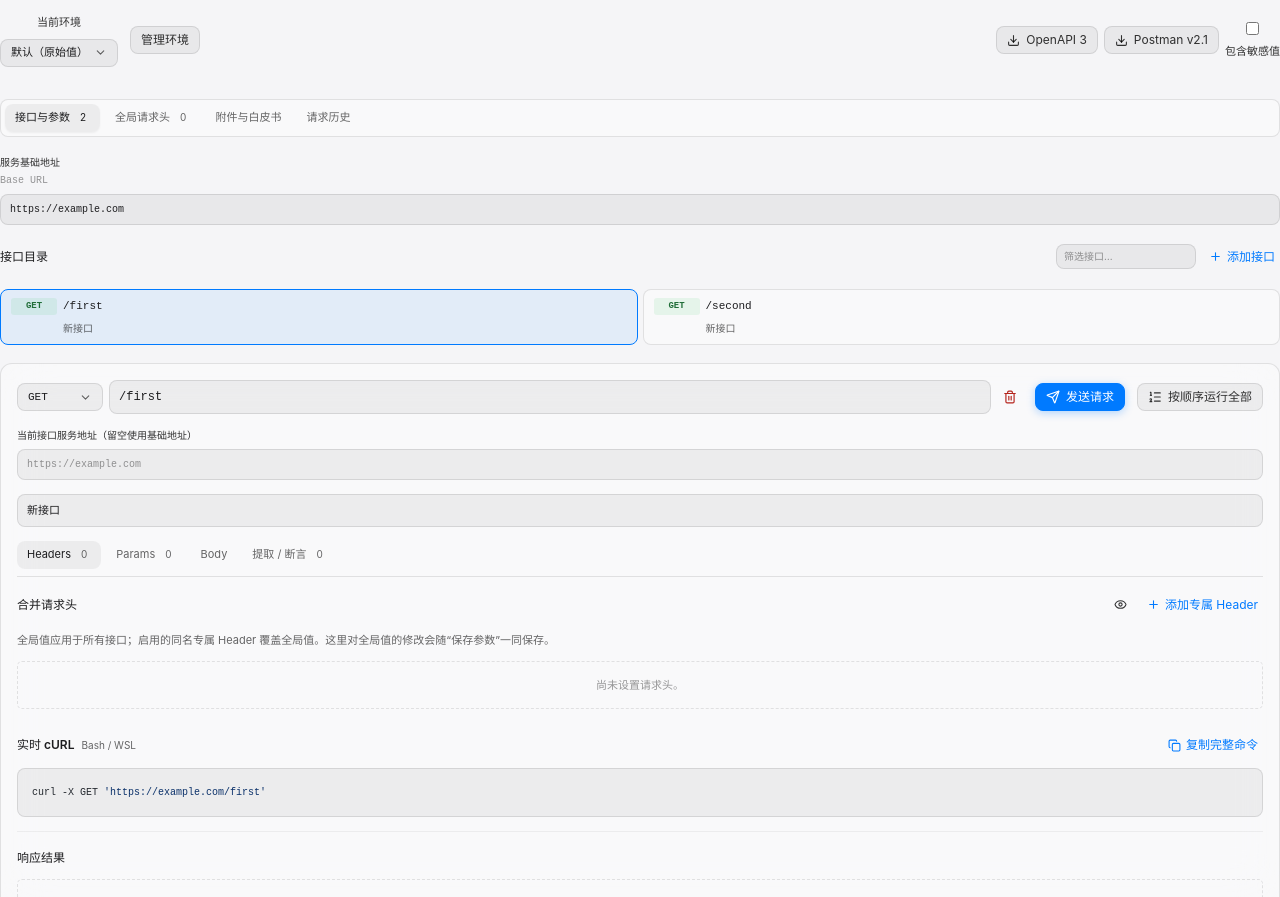
Test: responses from a previously selected endpoint never appear under another endpoint
Step 1. Click the button "发送请求" → [1080, 397], box [1035,383,1125,411]
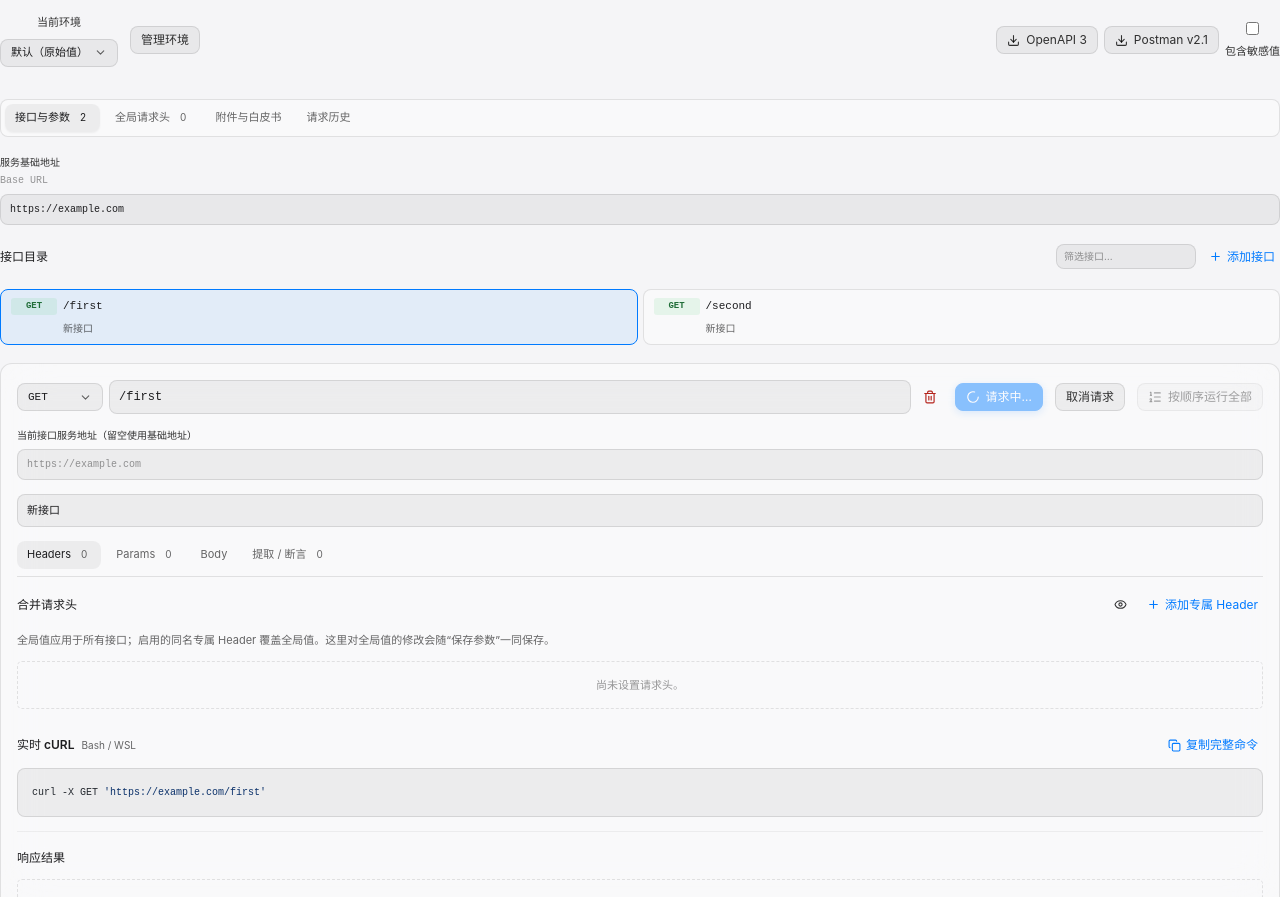
Step 2. Click the button with class "endpoint" showing "GET /second 新接口" → [676, 306], box [642,288,1279,345]
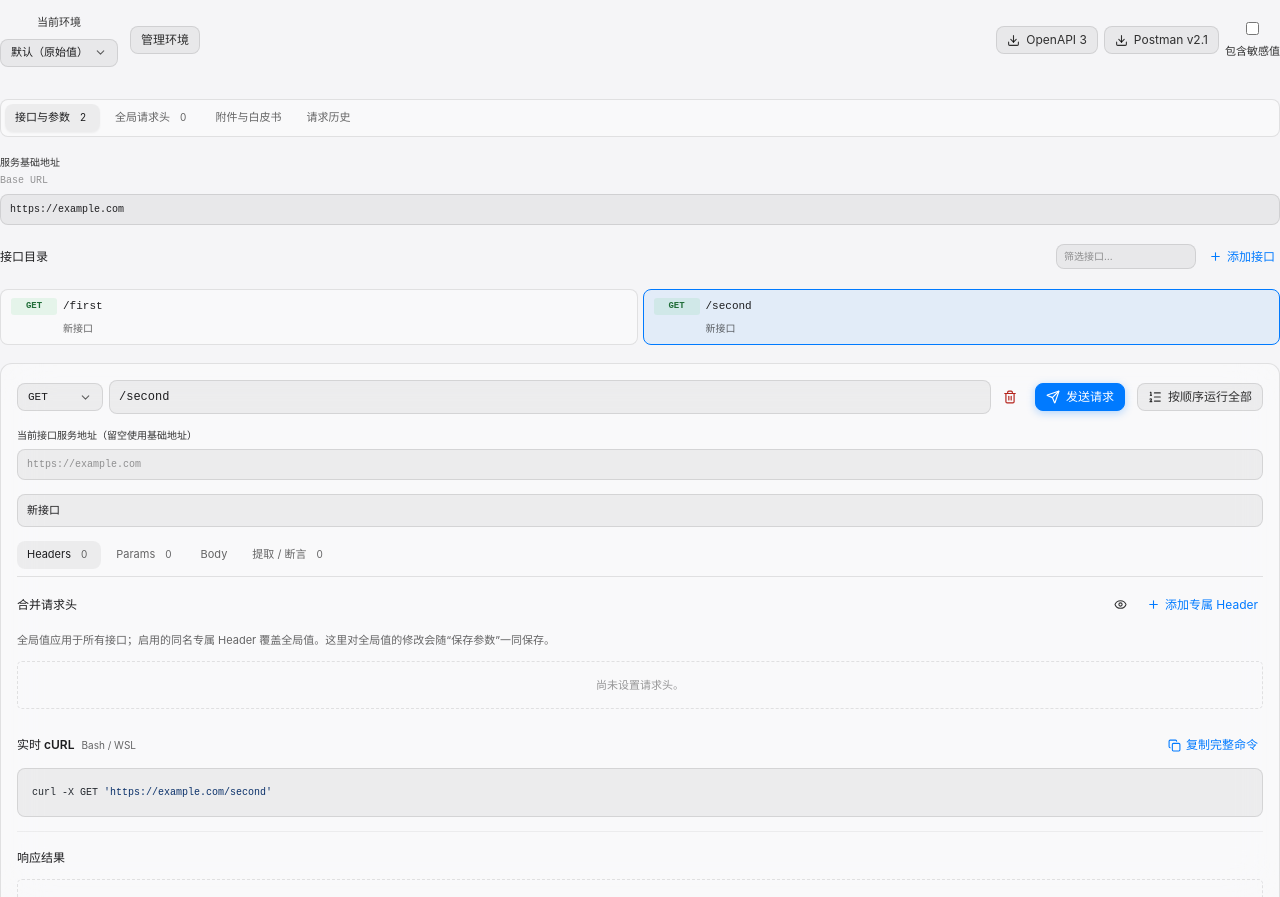
Expected: the button "发送请求" is enabled, [1035,383,1125,411]
Expected: the button "发送请求" is shown, [1035,383,1125,411]
Expected: the button "请求中…" no longer shows "请求中"
